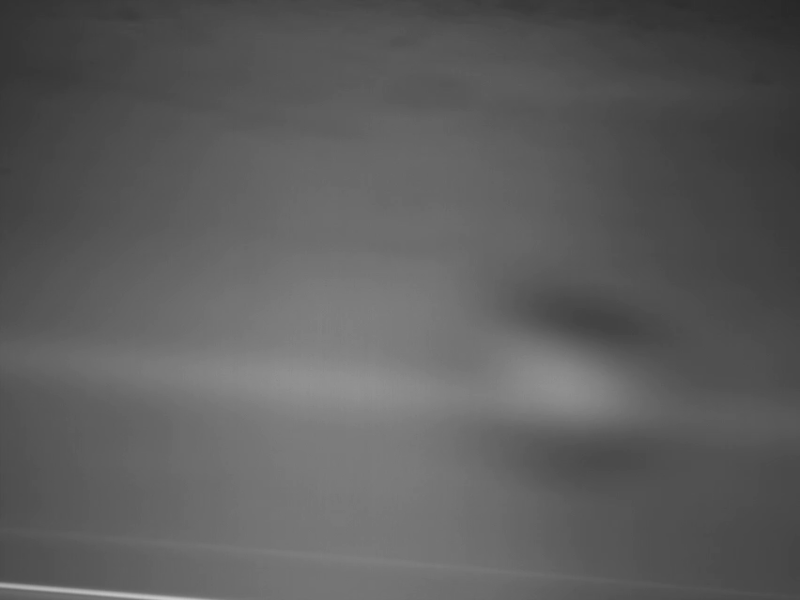bead: (473, 287, 698, 487)
